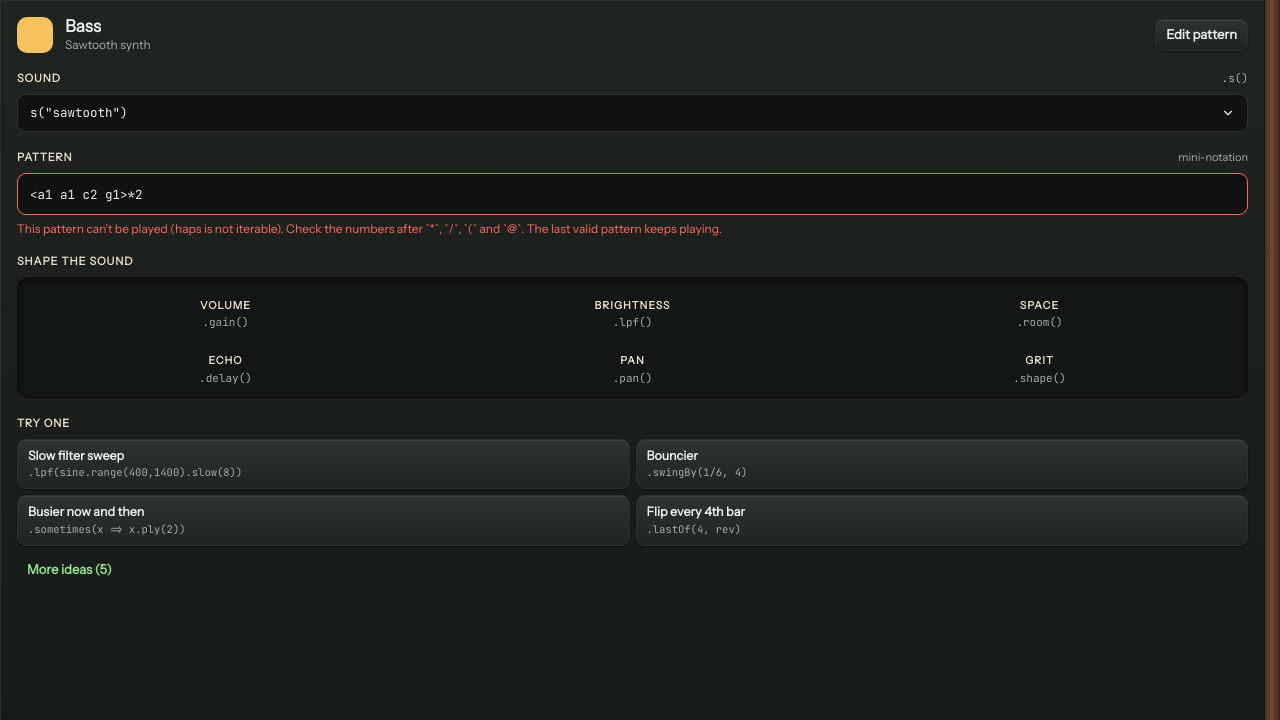
Scenario: Inspector › should close the picker on Escape without changing the sound
Click the button with aria-label "Change sound".
click(79, 112)  # box [17,94,1248,132]
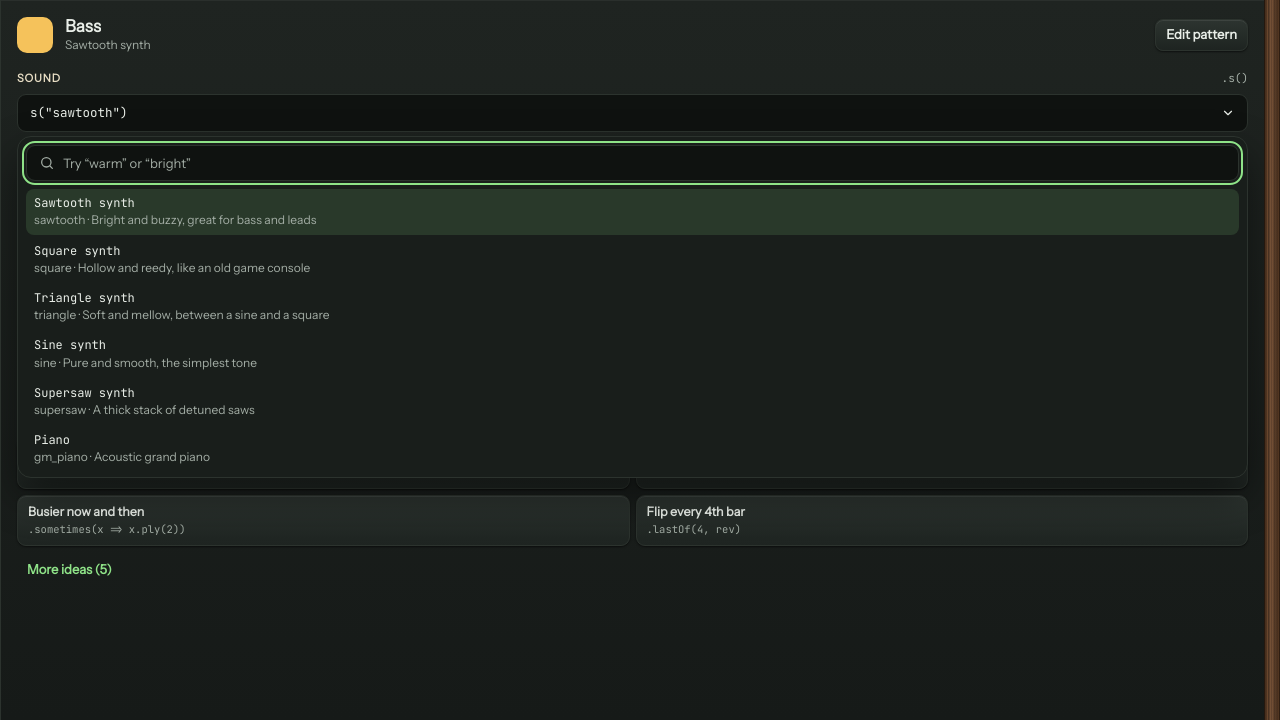
Press Escape
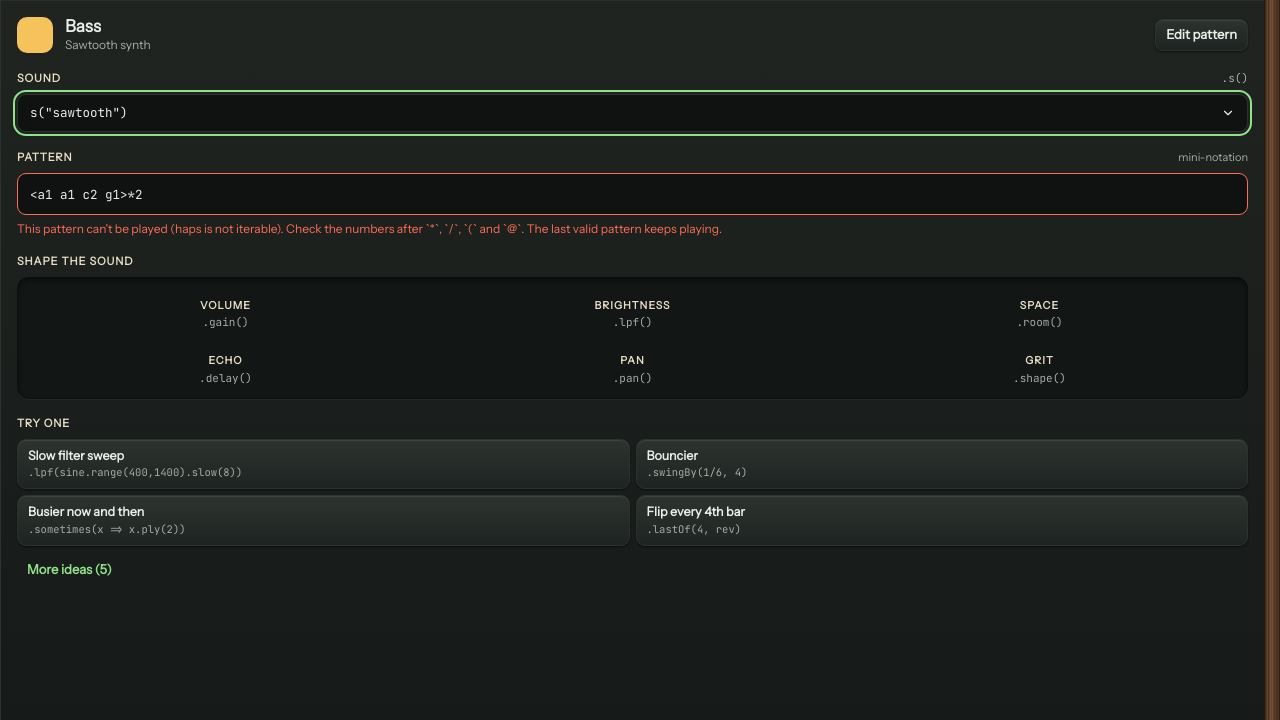
Result: the dialog is gone
